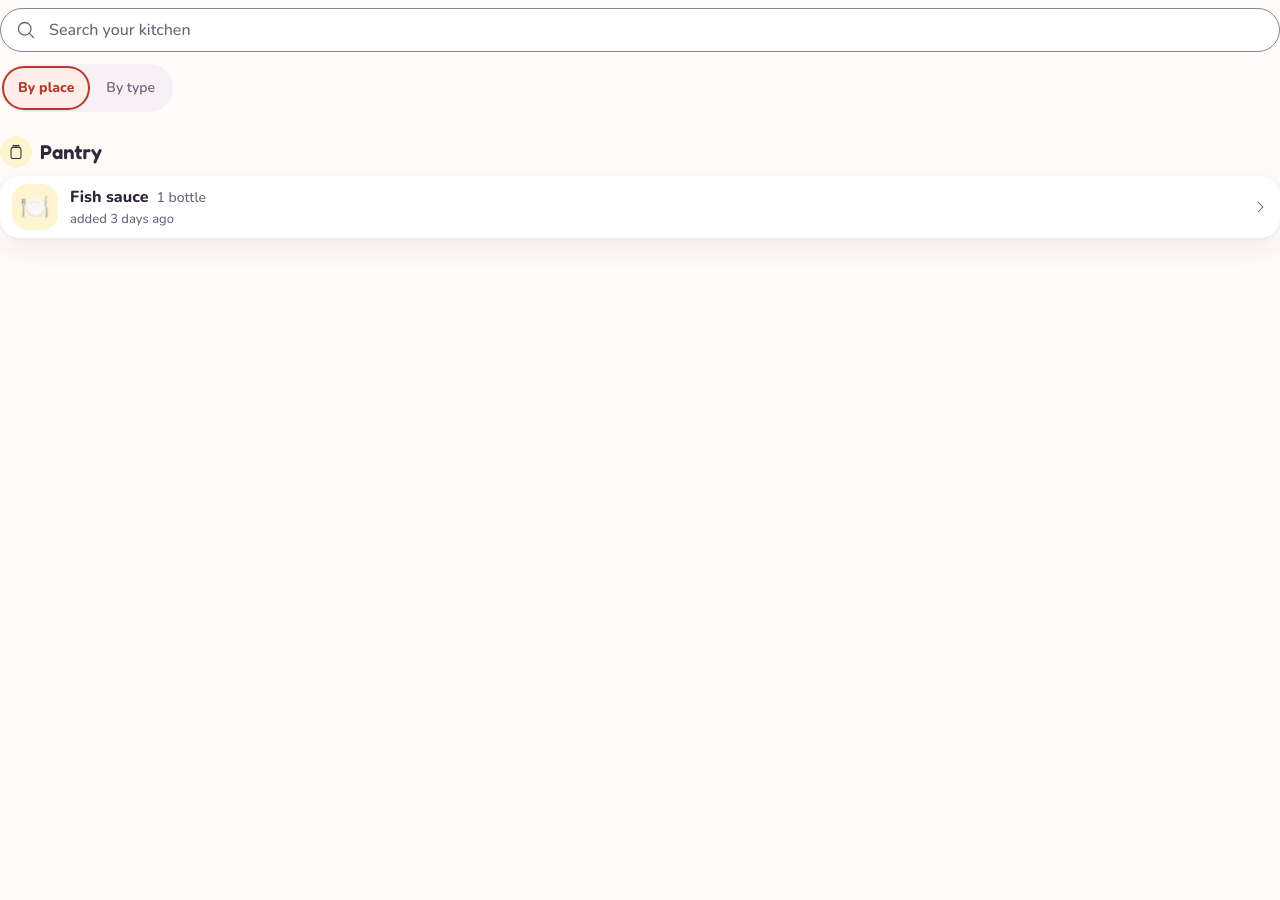
Test case: The sheet's fields › starts from the item: name, amount as said, the current place and type marked 'now', the Staple switch
Click the button with aria-label "Edit fish sauce" at (109, 197), box [70,186,148,208]
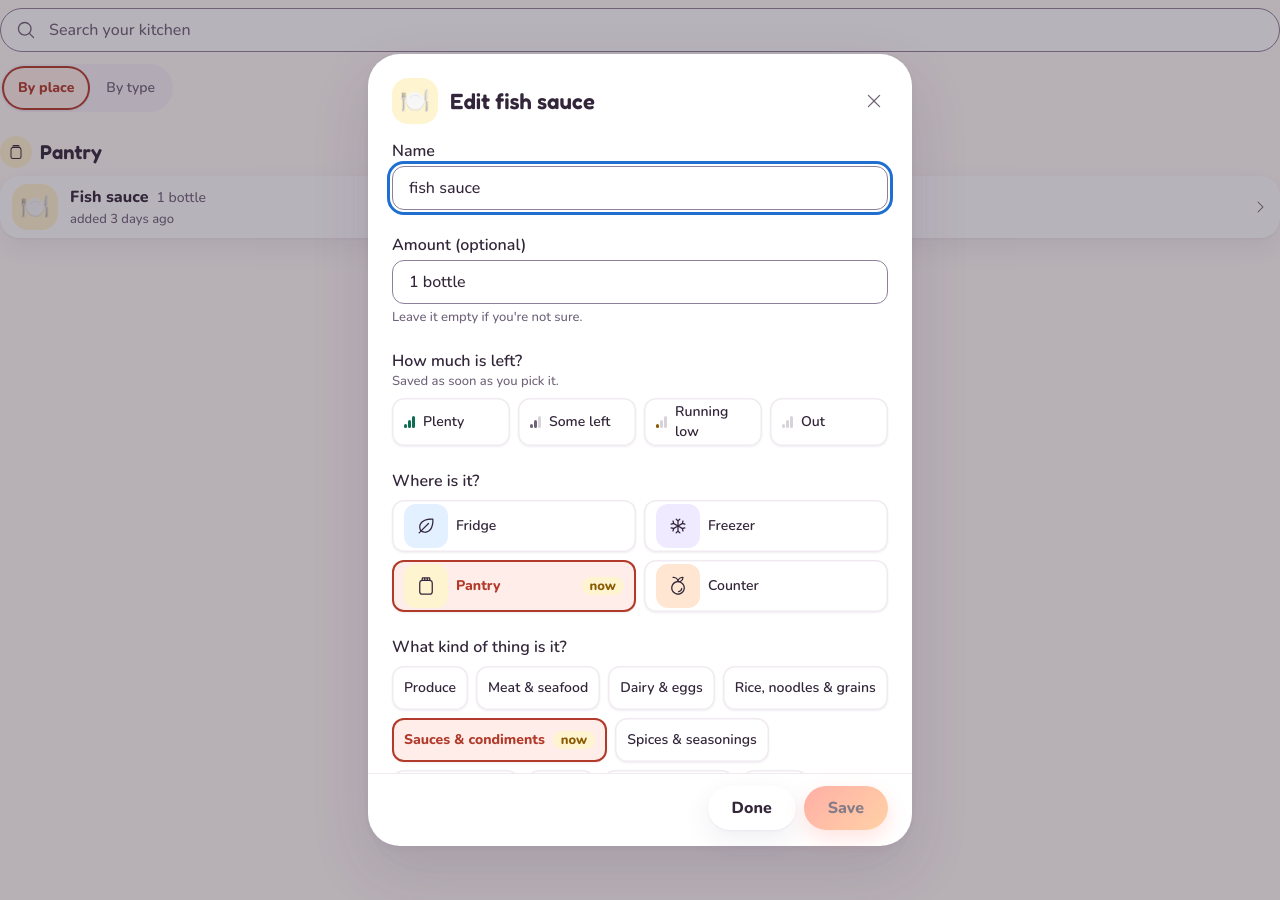
Check: the field labelled "Name" holds "fish sauce", box [392,166,888,210]
Check: the field labelled "Amount (optional)" holds "1 bottle", box [392,260,888,304]
Check: the button "Save" is disabled, box [804,786,888,830]
